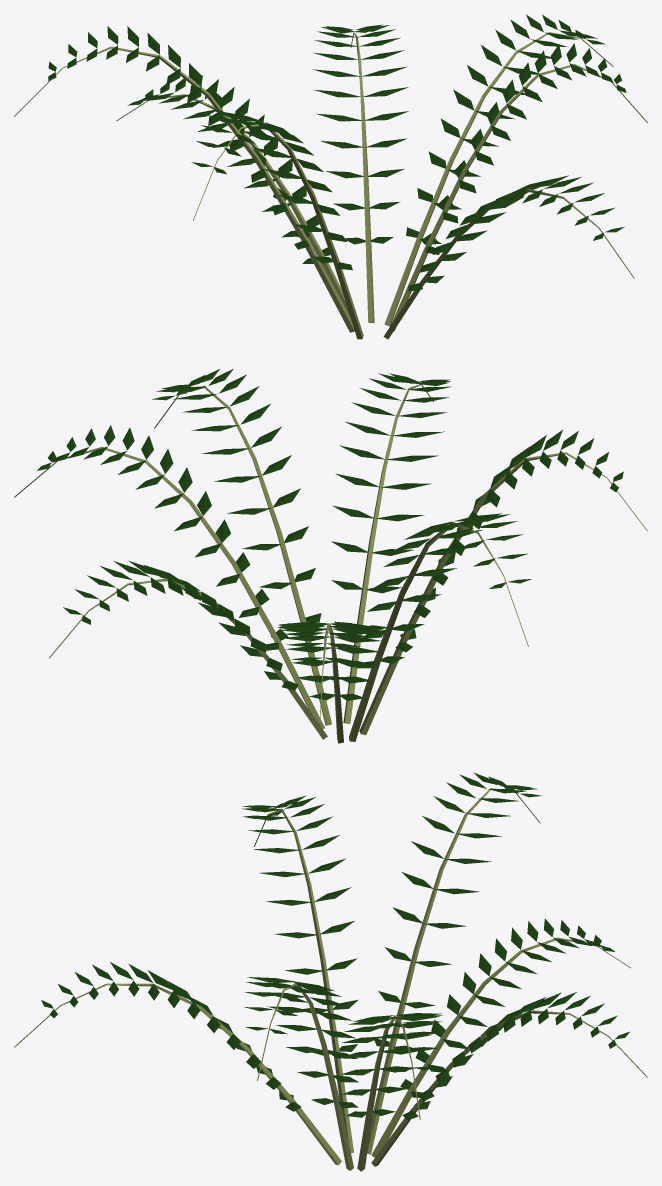
Rendered from ShadeFern_Clump_01_LOD1.fbx.
3 views of the same model, one above another, from view 1: azimuth 30°, elevation 25°; view 2: azimuth 150°, elevation 25°; view 3: azimuth 270°, elevation 25° (orthographic). The views are drawn at different scales.
Parts seen in each view (by area): view 1: ShadeFern_Clump_01_LOD1_Mesh; view 2: ShadeFern_Clump_01_LOD1_Mesh; view 3: ShadeFern_Clump_01_LOD1_Mesh.
Boxes of the visible parts, box(x1,y1,x2,y2) form: ShadeFern_Clump_01_LOD1_Mesh: box(14, 14, 647, 339); ShadeFern_Clump_01_LOD1_Mesh: box(14, 368, 647, 743); ShadeFern_Clump_01_LOD1_Mesh: box(14, 772, 647, 1171).
Bounding box in the file's own units: 111 × 56.89 × 115.
